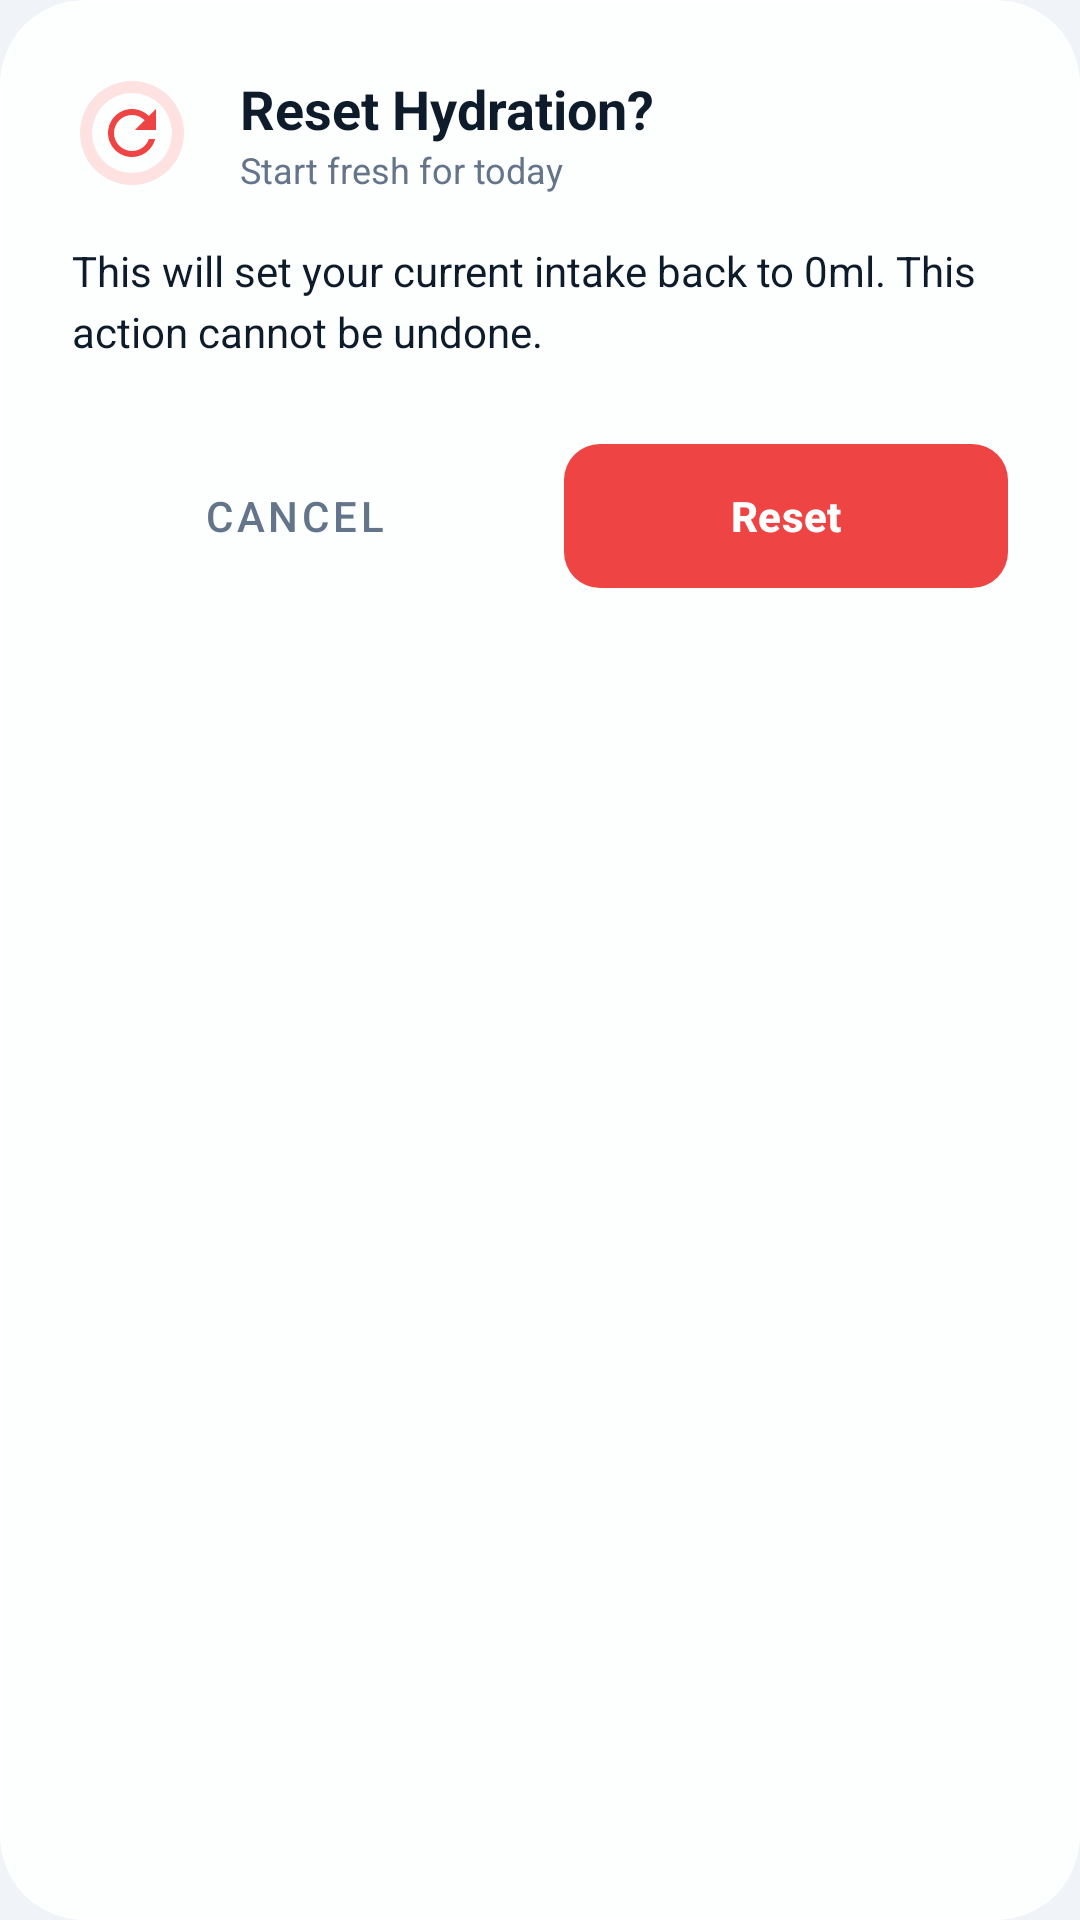

Icons on this 1080w x 1920h Android screen, each with its box as (x1, y1, x2, y2):
refresh: (80, 81, 184, 185)
